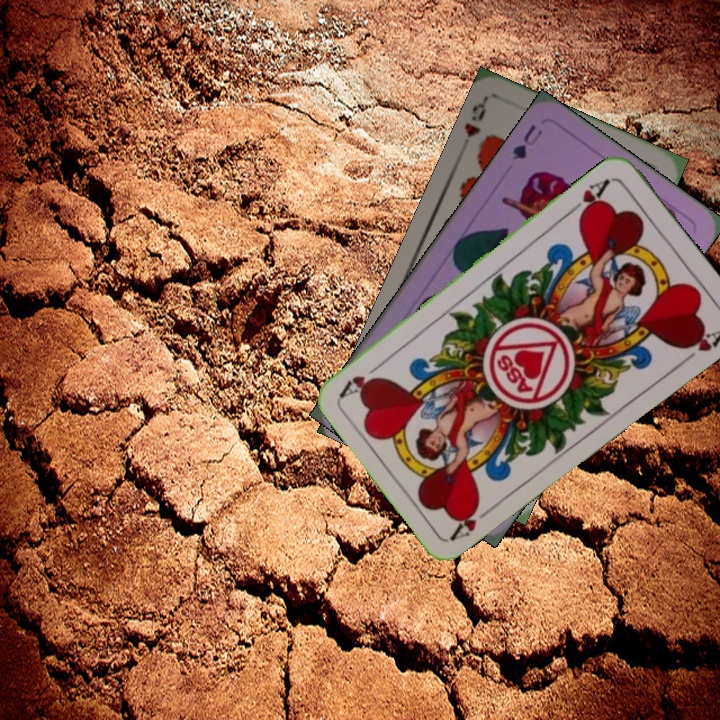GU: (508, 120, 545, 163)
H9: (460, 95, 490, 141)
HA: (447, 497, 499, 543), (565, 174, 613, 222)
